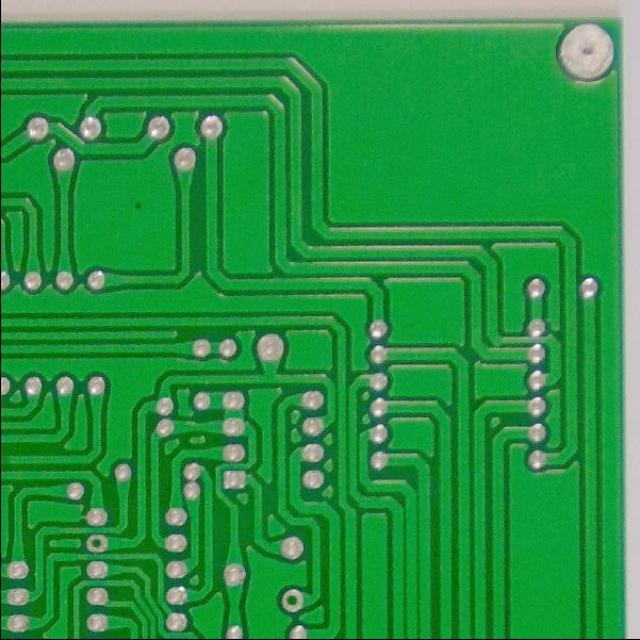missing_hole: (280, 588, 305, 616), (82, 531, 108, 557)
